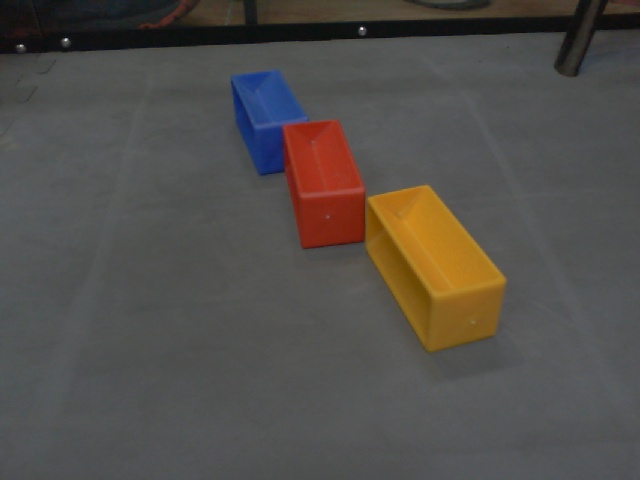BlueSample: (229, 69, 309, 177)
RedSample: (283, 119, 368, 248)
YellowSample: (366, 182, 508, 354)
